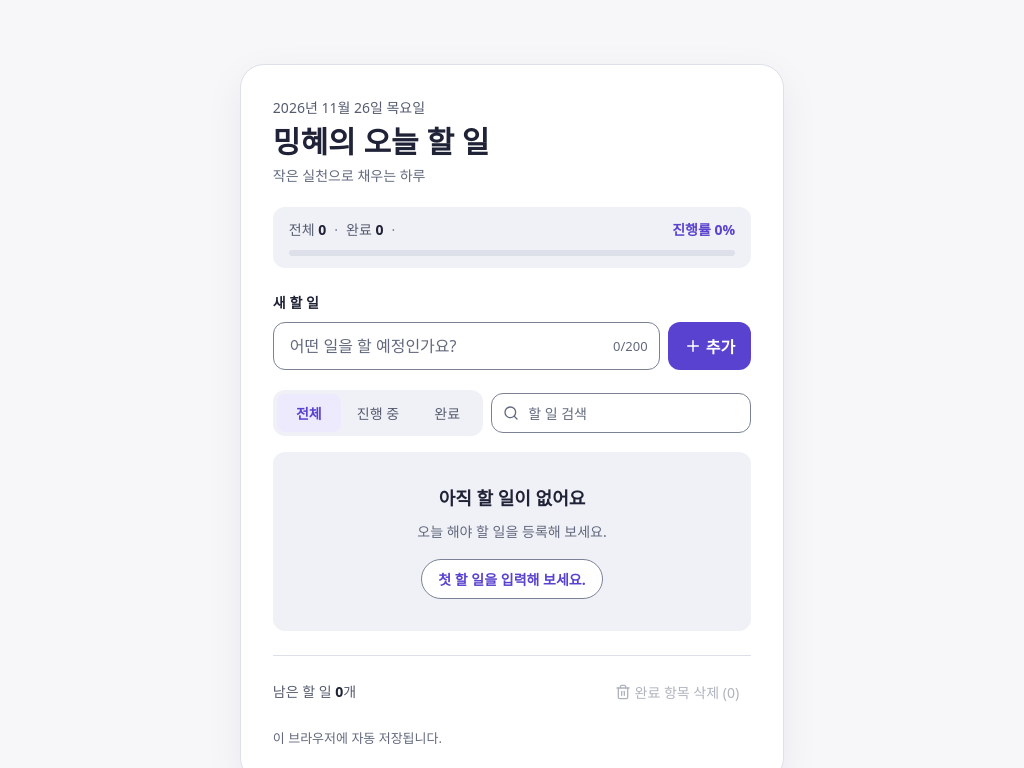
Test: App Component Integration › 완료 항목 일괄 삭제 모달 확인 및 취소가 정상 동작한다
The width and height of the screenshot is (1024, 768).
In the field with placeholder "어떤 일을 할 예정인가요?": (466, 346) x1=273 y1=322 x2=660 y2=370, type "완료 대상 항목"
Then press Enter
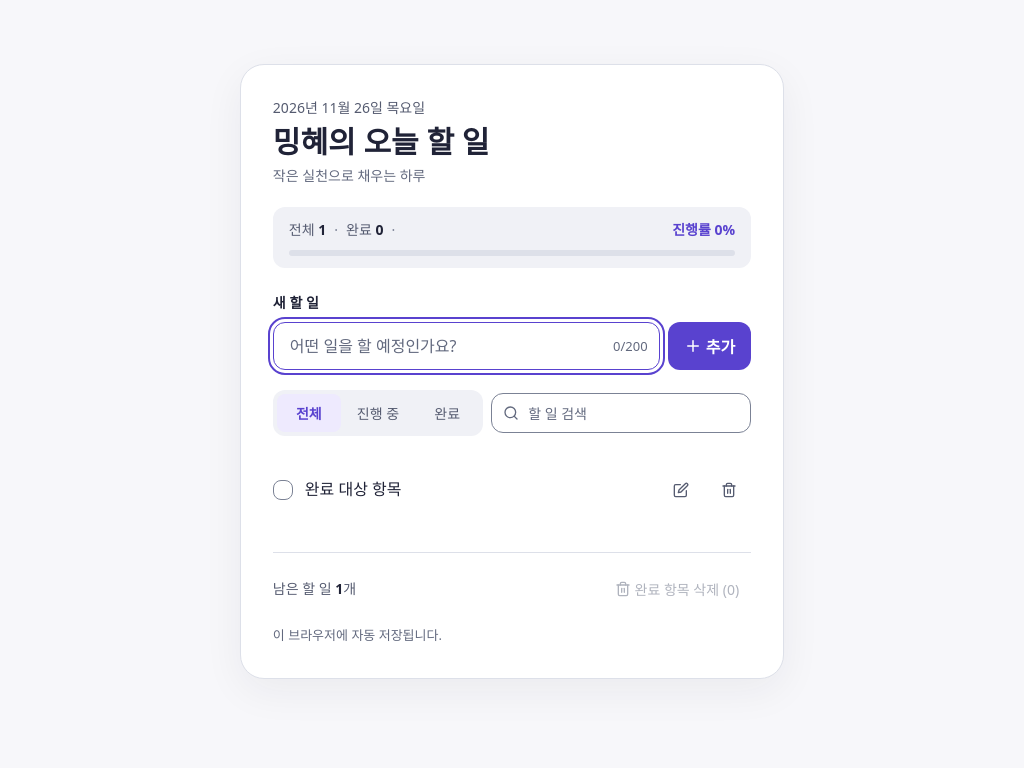
Click the checkbox labelled "완료 대상 항목": click(353, 489) x1=305 y1=478 x2=402 y2=500
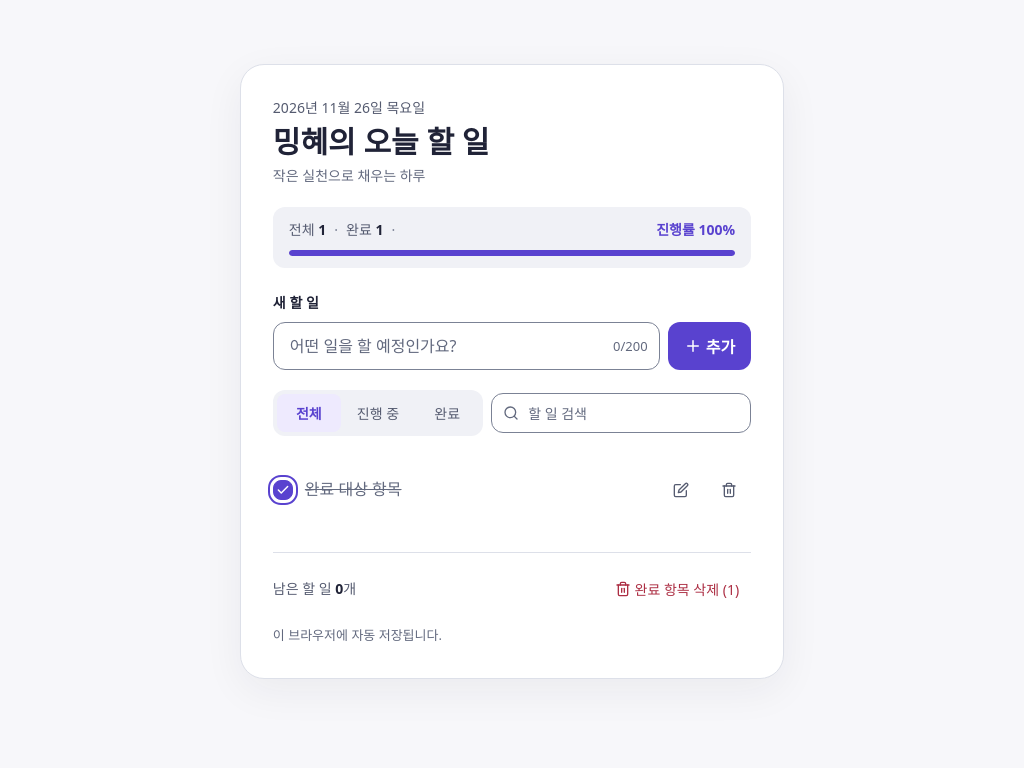
expect the button with aria-label "완료된 할 일 1개 모두 삭제" is enabled: met
Click the button with aria-label "완료된 할 일 1개 모두 삭제": click(677, 589) x1=602 y1=569 x2=751 y2=609
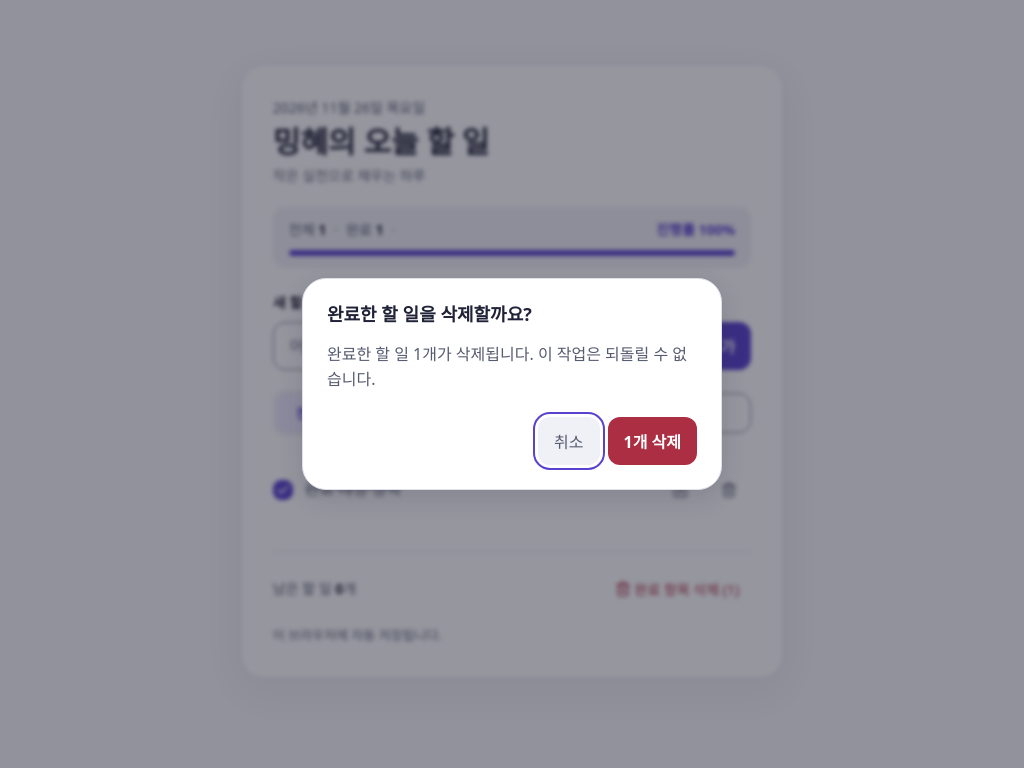
expect the heading "완료한 할 일을 삭제할까요?" is shown: met, box x1=327 y1=302 x2=532 y2=326
# 취소 버튼 클릭 시 닫히고 항목 유지
Click the button "취소": click(569, 441) x1=538 y1=417 x2=600 y2=465
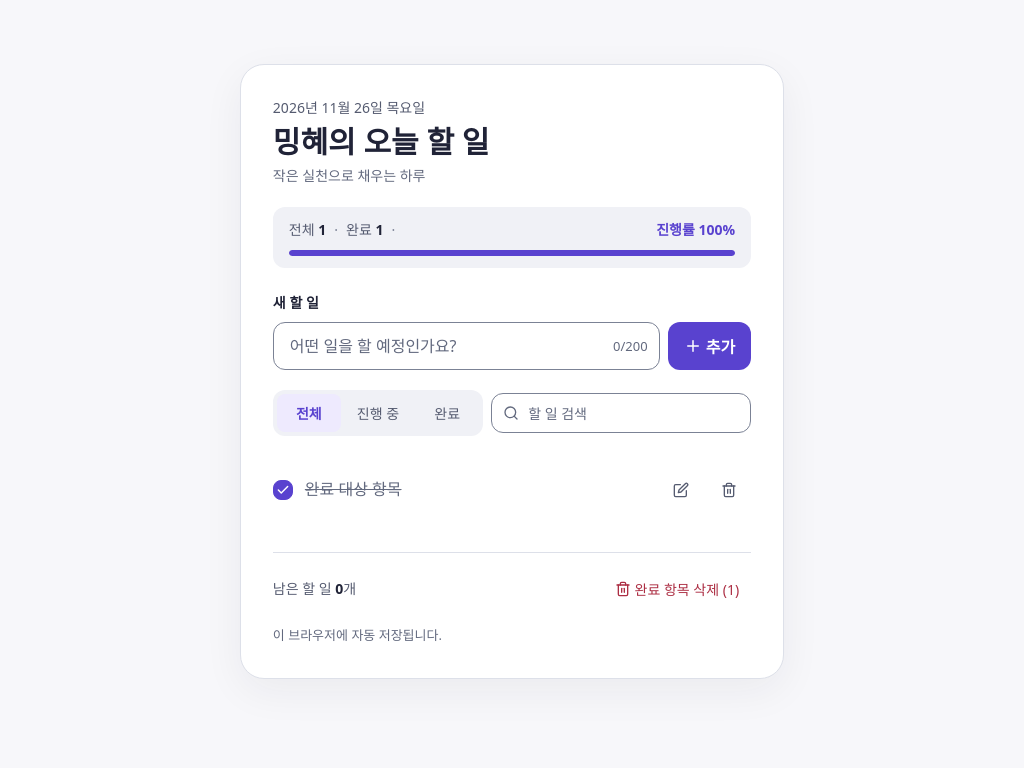
expect the text "완료 대상 항목" is shown: met, box x1=305 y1=477 x2=402 y2=503
# 다시 모달 열고 삭제 확인
Click the button with aria-label "완료된 할 일 1개 모두 삭제": click(677, 589) x1=602 y1=569 x2=751 y2=609
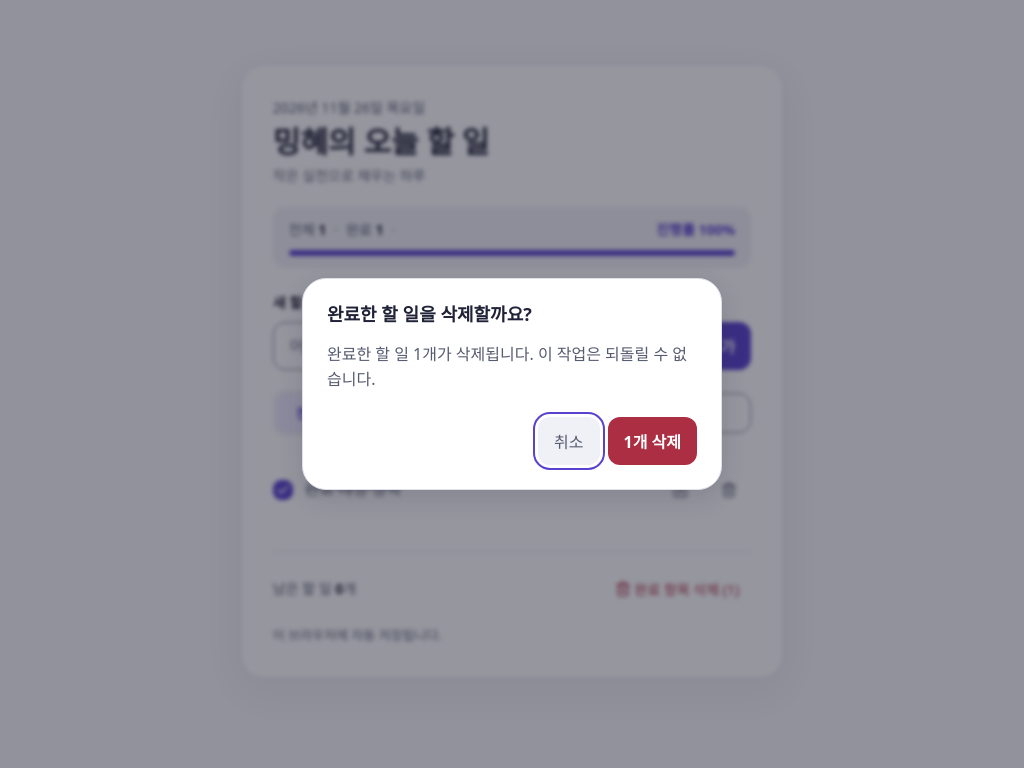
Click the button "1개 삭제": click(652, 441) x1=608 y1=417 x2=697 y2=465
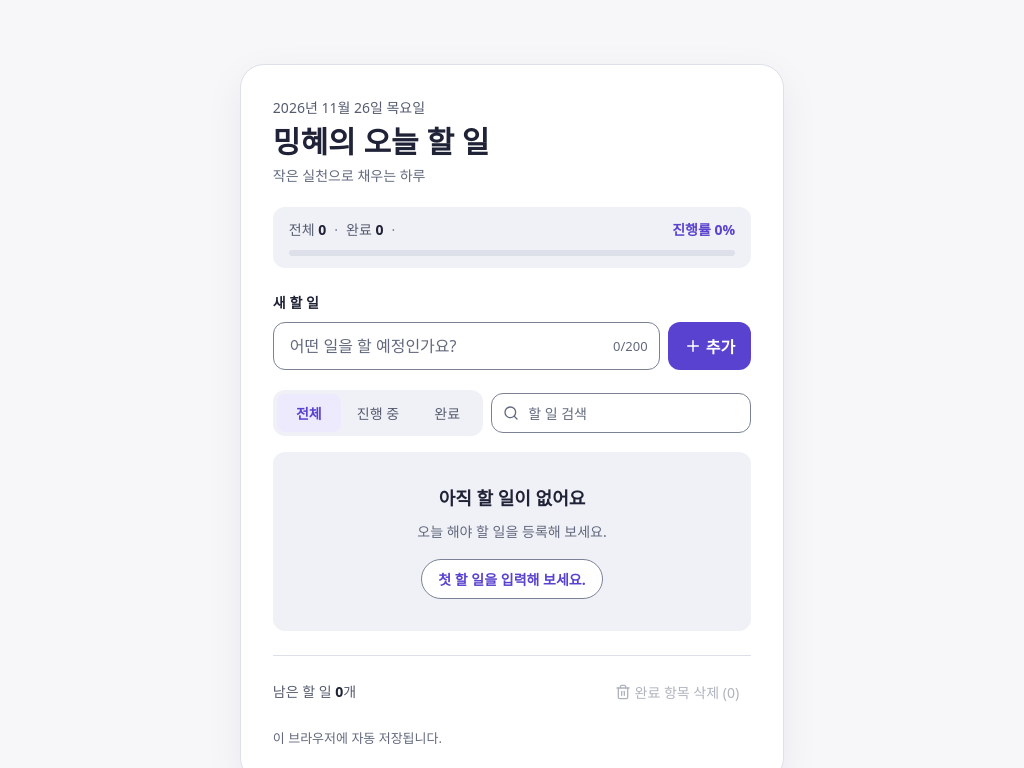
expect the text "완료 대상 항목" is gone: met
